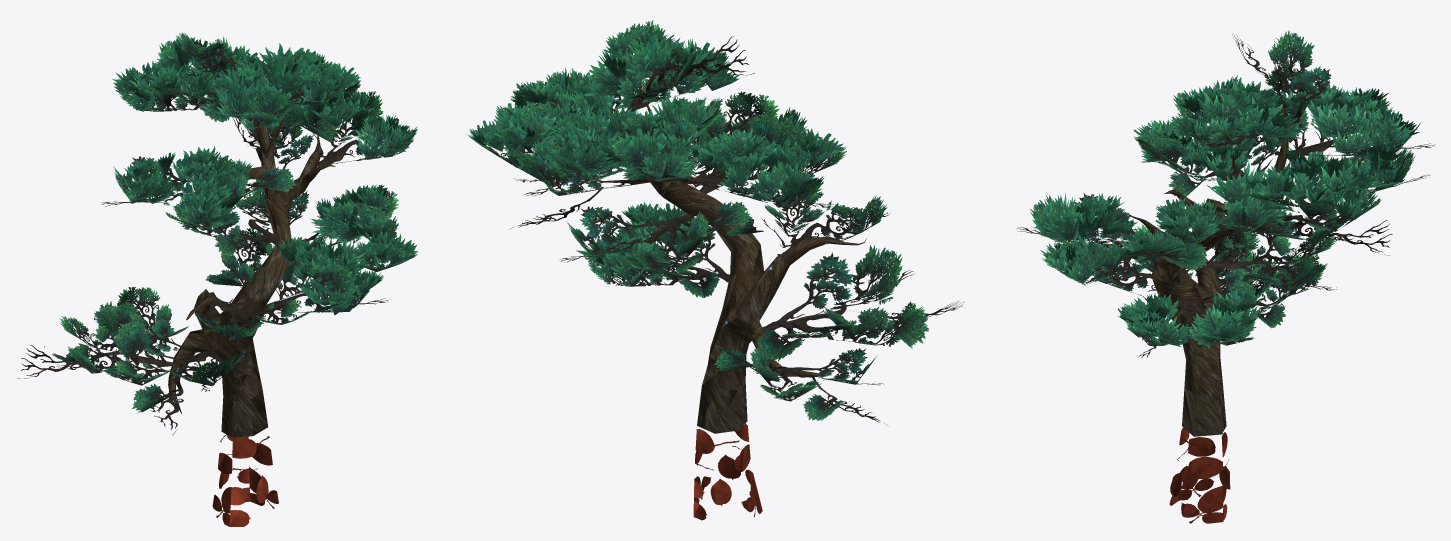
File: mesh_qingming_tree04.FBX
The picture shows the model from 3 angles, left to right: view 1: azimuth 30°, elevation 25°; view 2: azimuth 150°, elevation 25°; view 3: azimuth 270°, elevation 25°; orthographic projection. The views are drawn at different scales.
Visible parts, largest first — view 1: mesh_qingming_tree04; view 2: mesh_qingming_tree04; view 3: mesh_qingming_tree04.
Part boxes in pixels (left/top/right/bottom): mesh_qingming_tree04: left=17, top=32, right=417, bottom=526; mesh_qingming_tree04: left=467, top=20, right=963, bottom=520; mesh_qingming_tree04: left=1017, top=30, right=1435, bottom=523.
Size of the model in its own units: 14.21 by 16.98 by 13.5.
